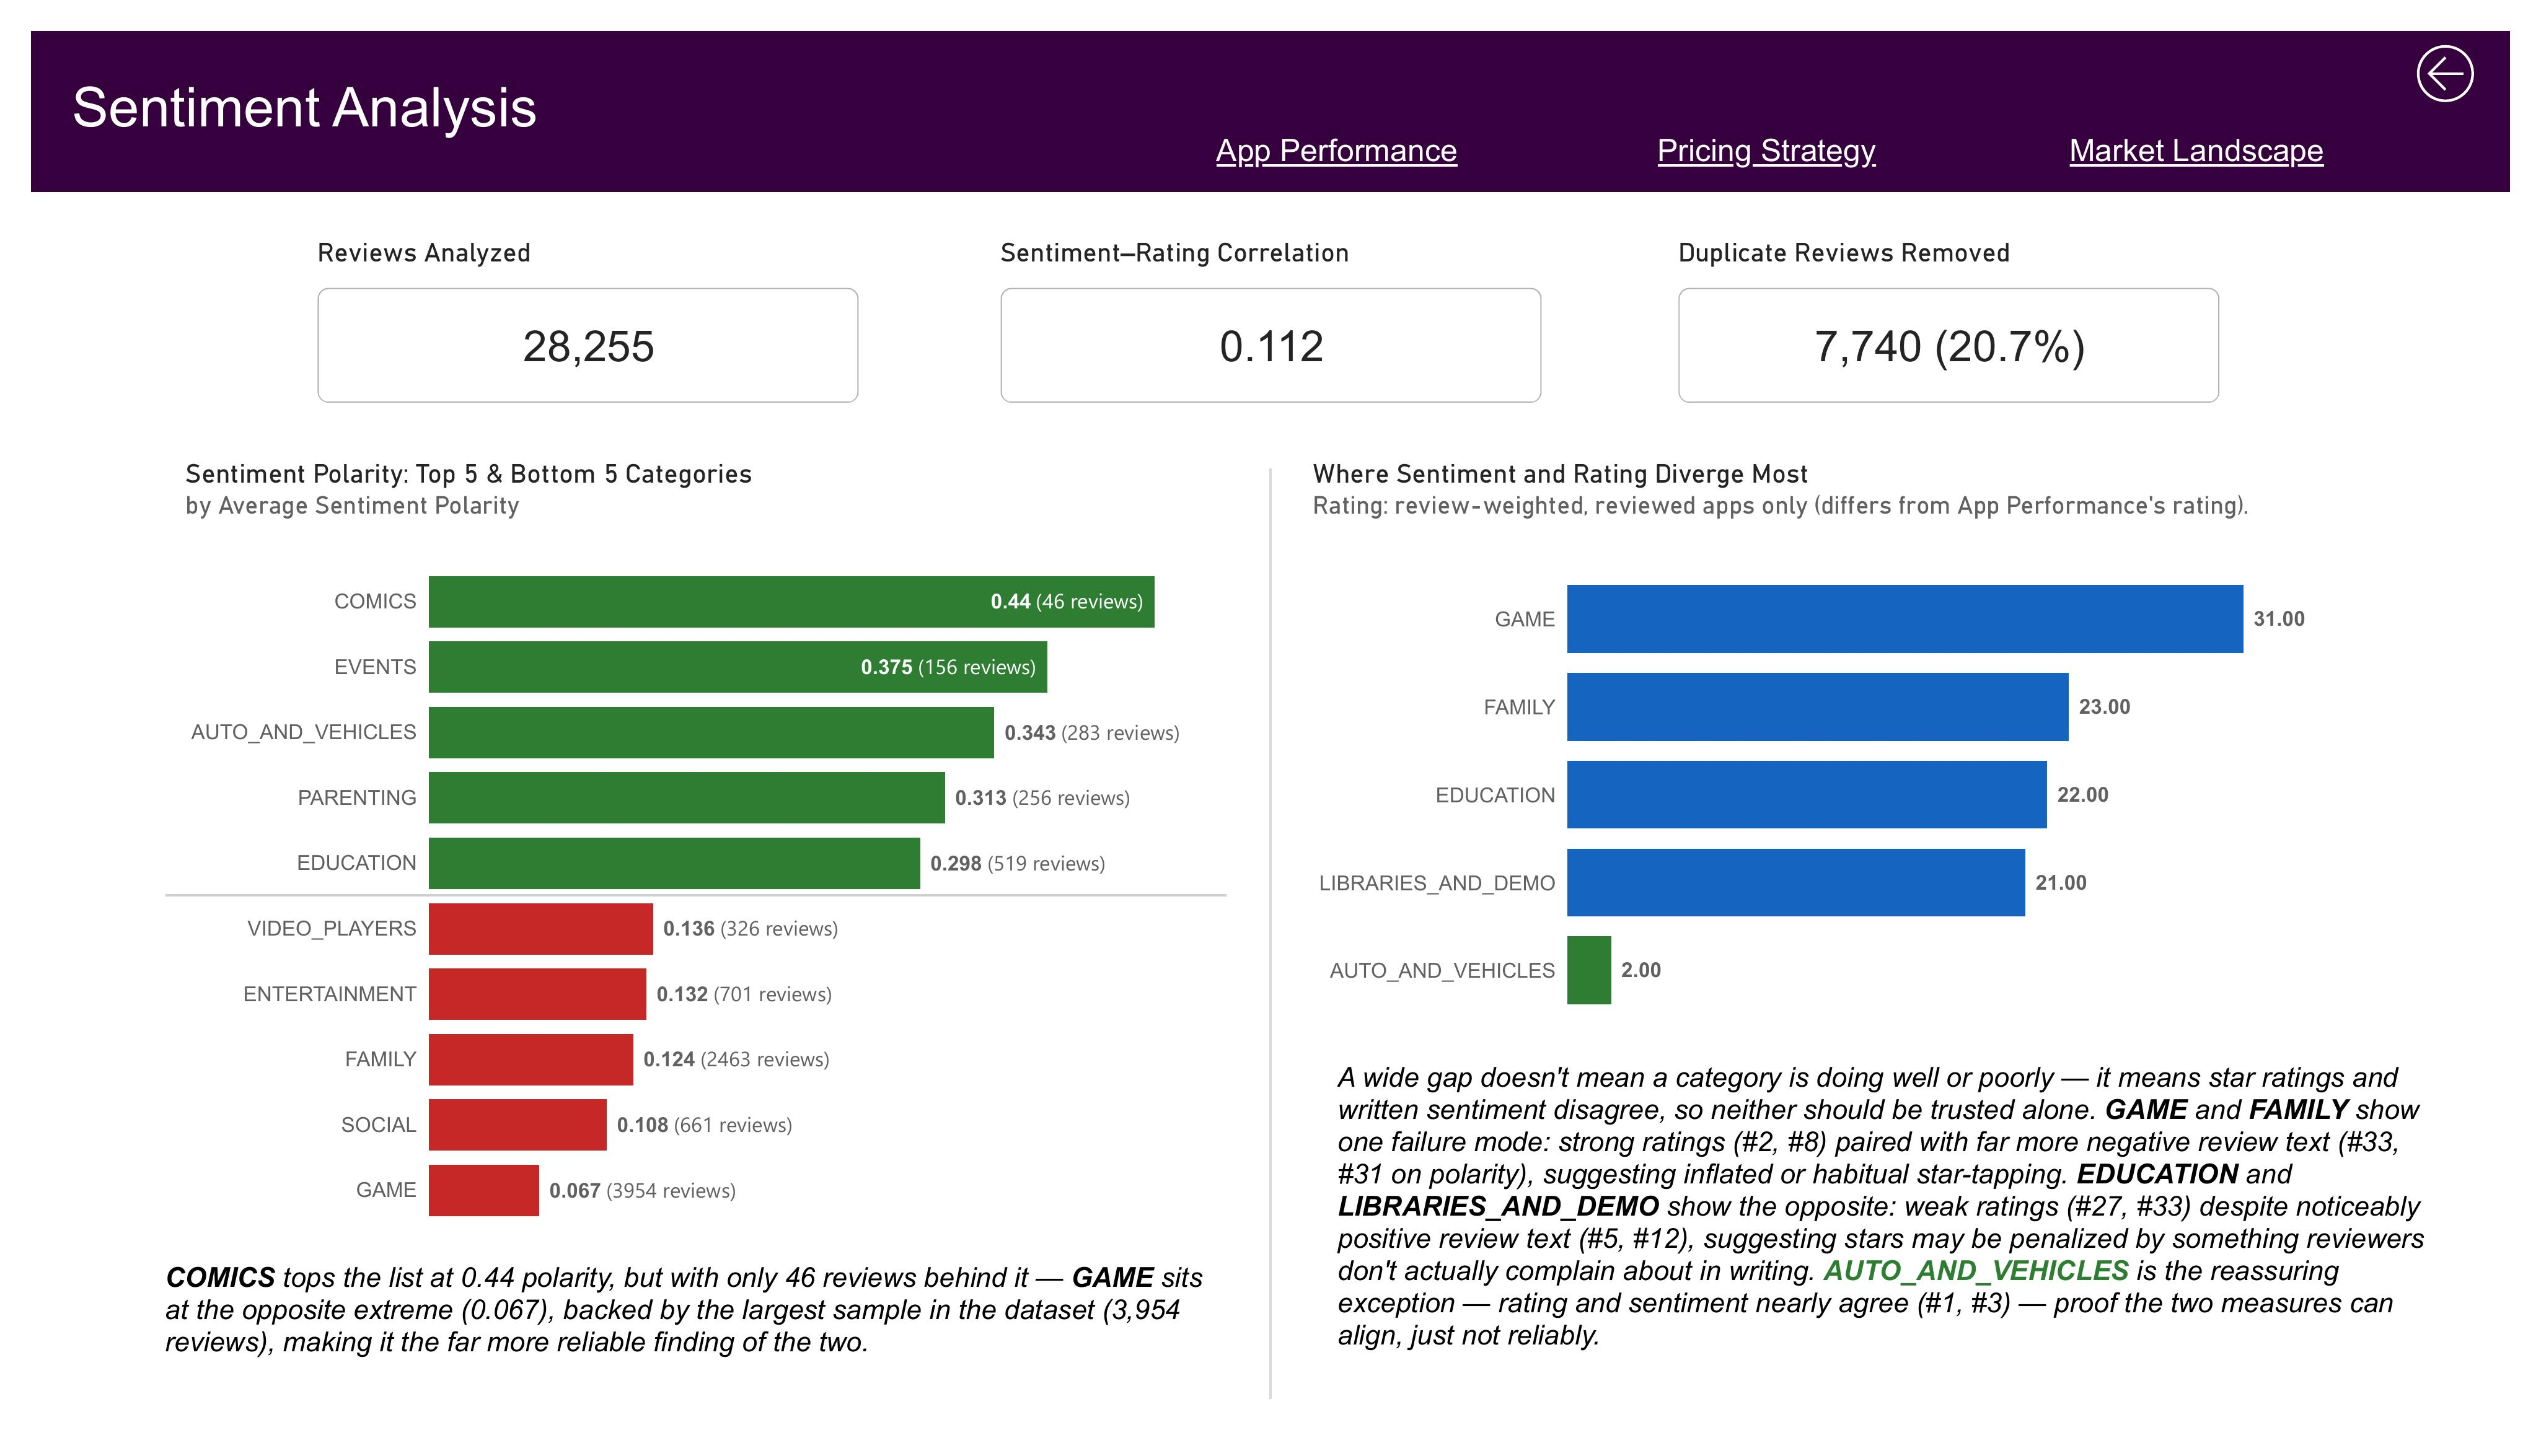

The dashboard page shown, as its layout file describes it:
{"tool":"powerbi","page":{"name":"Sentiment_Analysis","canvas":[1920,1080],"ordinal":3},"visuals":[{"type":"shape","box":[0,0,1920.2,125.2],"z":0},{"type":"barChart","title":"Sentiment Polarity: Top 5 & Bottom 5 Categories","fields":{"Category":["fct_sentiment_analysis.category"],"Y":["Avg(fct_sentiment_analysis.avg_sentiment_polarity)"]},"box":[103.7,316.9,821.9,637.6],"z":0,"group":"g1"},{"type":"textbox","box":[31.7,35.1,531,58.4],"z":1000},{"type":"shape","box":[103.7,656.8,821.9,25.1],"z":1000,"group":"g1"},{"type":"actionButton","box":[1820,0,100,65],"z":2000},{"type":"shape","box":[845.5,60,332.7,65.5],"z":3000},{"type":"shape","box":[1178.2,60,332.7,65.5],"z":4000},{"type":"shape","box":[1510.9,60,332.7,65.5],"z":5000},{"type":"cardVisual","title":"Reviews Analyzed","fields":{"Data":["Sum(fct_sentiment_analysis.review_count)"]},"box":[222.5,160.2,418.6,129.1],"z":6000},{"type":"cardVisual","title":"Sentiment–Rating Correlation","fields":{"Data":["fct_sentiment_analysis.Sentiment-Rating Correlation"]},"box":[751.1,160.2,418.6,129.1],"z":7000},{"type":"cardVisual","title":"Duplicate Reviews Removed","fields":{"Data":["fct_sentiment_analysis.Duplicate Reviews Removed (Validated)"]},"box":[1276.1,160.2,418.6,129.1],"z":8000},{"type":"textbox","box":[103.7,954.4,821.9,80.7],"z":9000},{"type":"barChart","title":"Where Sentiment and Rating Diverge Most","fields":{"Category":["fct_sentiment_analysis.category"],"Y":["Avg(fct_sentiment_analysis.Rank Gap)"]},"box":[977.5,316.9,820,482],"z":10000},{"type":"textbox","box":[1012,798.9,858.4,236.2],"z":11000},{"type":"group","id":"g1","title":"Group 1","box":[103.7,316.9,821.9,637.6],"z":12000},{"type":"shape","box":[953.4,339,13.4,721.3],"z":13000}]}

Visuals, with their boxes on the page's 1920x1080 design canvas (x1, y1, x2, y2). These are canvas units, not pixel positions in the 2541x1456 screenshot, which may show the page scaled, cropped or inside an application window:
shape: BBox(0, 0, 1920, 125)
"Sentiment Polarity: Top 5 & Bottom 5 Categories" barChart: BBox(104, 317, 926, 954)
textbox: BBox(32, 35, 563, 94)
shape: BBox(104, 657, 926, 682)
actionButton: BBox(1820, 0, 1920, 65)
shape: BBox(846, 60, 1178, 126)
shape: BBox(1178, 60, 1511, 126)
shape: BBox(1511, 60, 1844, 126)
"Reviews Analyzed" cardVisual: BBox(222, 160, 641, 289)
"Sentiment–Rating Correlation" cardVisual: BBox(751, 160, 1170, 289)
"Duplicate Reviews Removed" cardVisual: BBox(1276, 160, 1695, 289)
textbox: BBox(104, 954, 926, 1035)
"Where Sentiment and Rating Diverge Most" barChart: BBox(978, 317, 1798, 799)
textbox: BBox(1012, 799, 1870, 1035)
"Group 1" group: BBox(104, 317, 926, 954)
shape: BBox(953, 339, 967, 1060)
